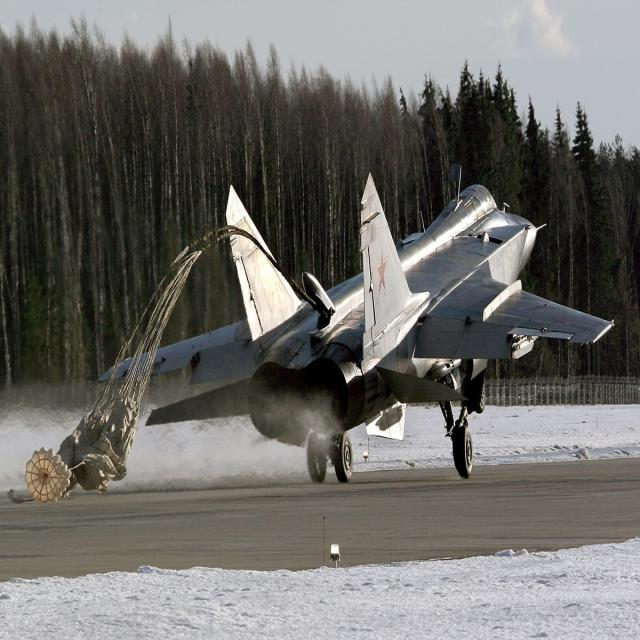MIL_Plane: (98, 163, 615, 482)
